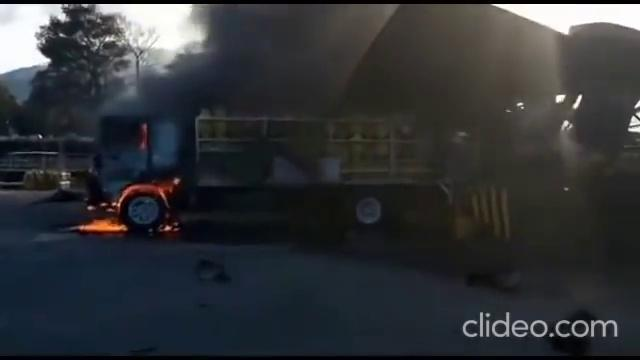fire: (119, 183, 173, 195), (87, 222, 136, 233)
smoke: (222, 31, 384, 101)
